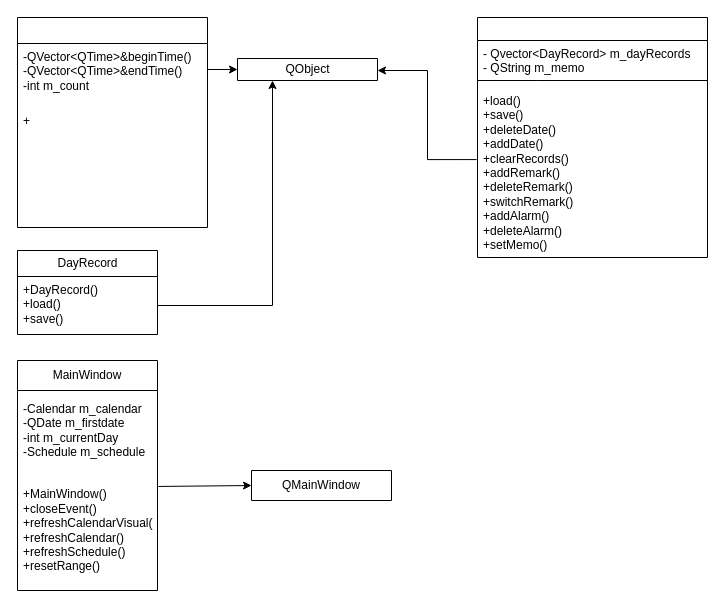
Image size: 726x608. Some labels were removed from this diagram. The shapes that lost their labels are listed below. From the top down, each one's box as (x1, y1, x2, y2) in pixels, then its label:
(16, 16, 208, 228): Schedule
(476, 16, 708, 258): Calendar
